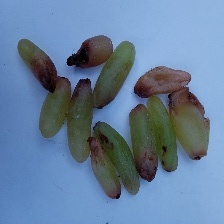grapes: (32, 42, 202, 216)
